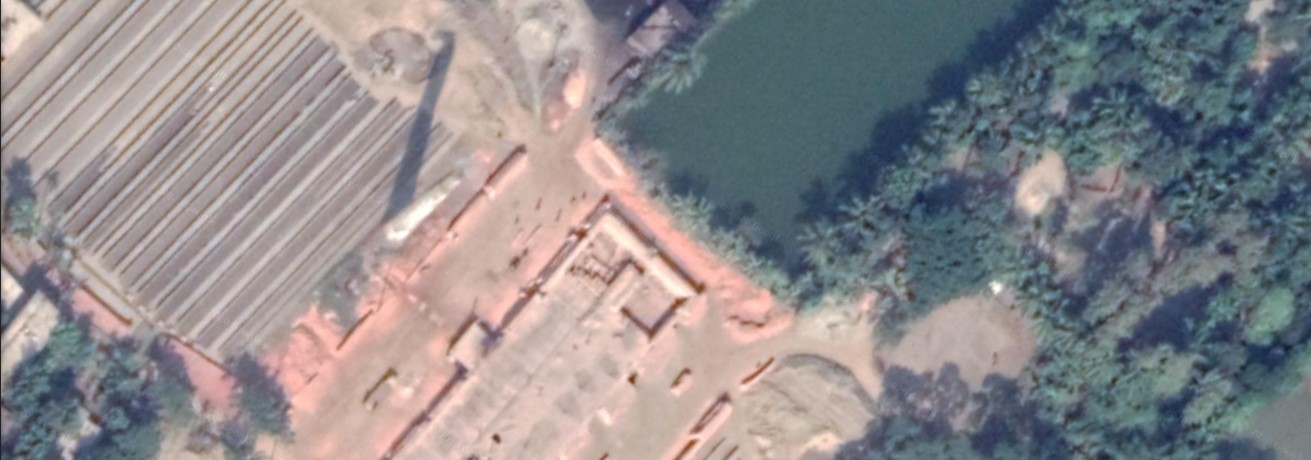kiln: (369, 111, 729, 453)
